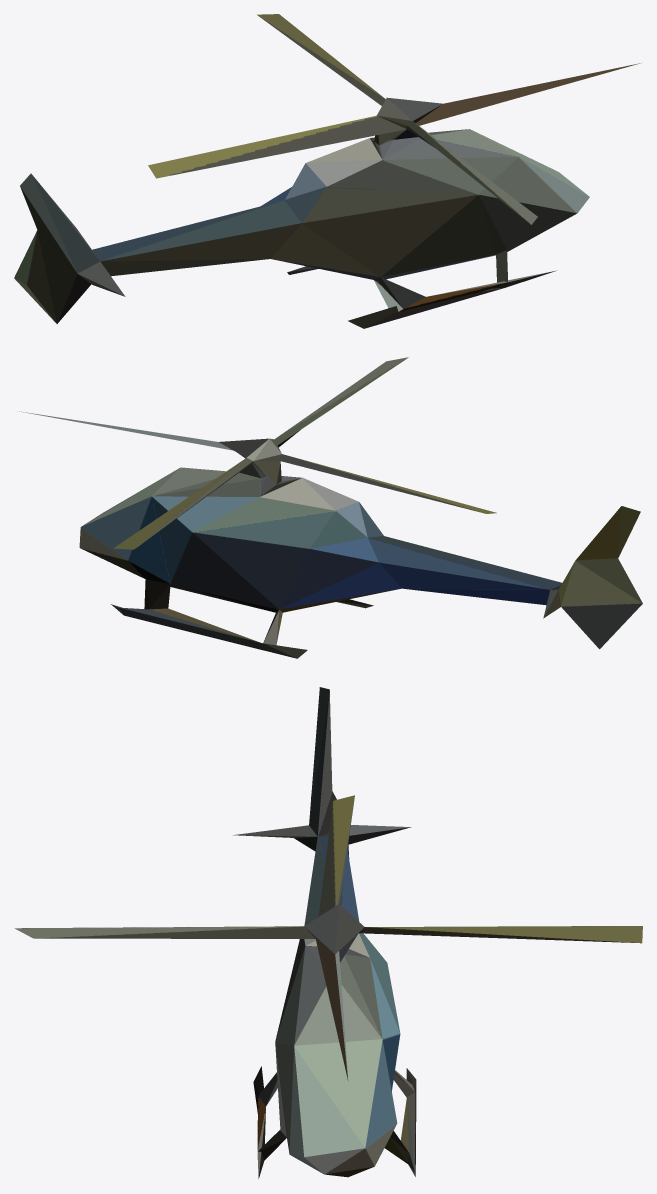
Rendered from helicopter.fbx.
The picture shows the model from 3 angles, top to bottom: view 1: azimuth 30°, elevation 25°; view 2: azimuth 150°, elevation 25°; view 3: azimuth 270°, elevation 25°; orthographic projection. The views are drawn at different scales.
Parts seen in each view (by area): view 1: Mesh_0; view 2: Mesh_0; view 3: Mesh_0.
Boxes of the visible parts, x1=… form: Mesh_0: x1=14, y1=14, x2=640, y2=328; Mesh_0: x1=17, y1=357, x2=642, y2=658; Mesh_0: x1=15, y1=687, x2=642, y2=1178.
Bounding box in the file's own units: 119 × 36.27 × 90.3.
1 material, 1 textured.
